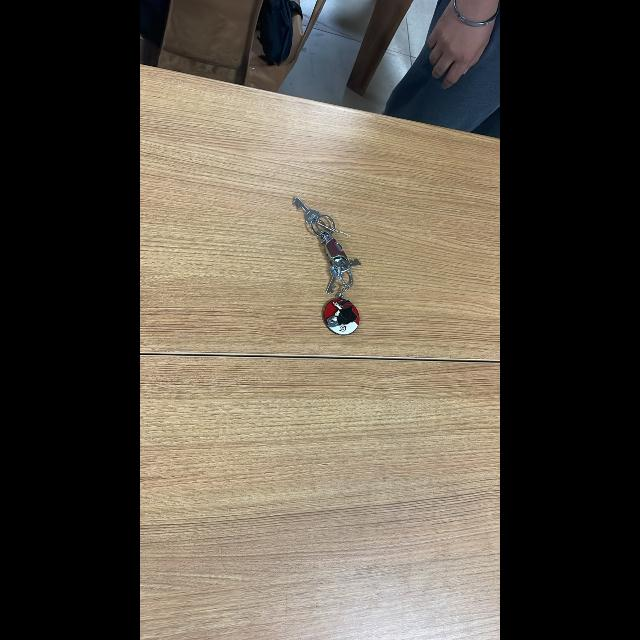keys: (278, 183, 408, 345)
